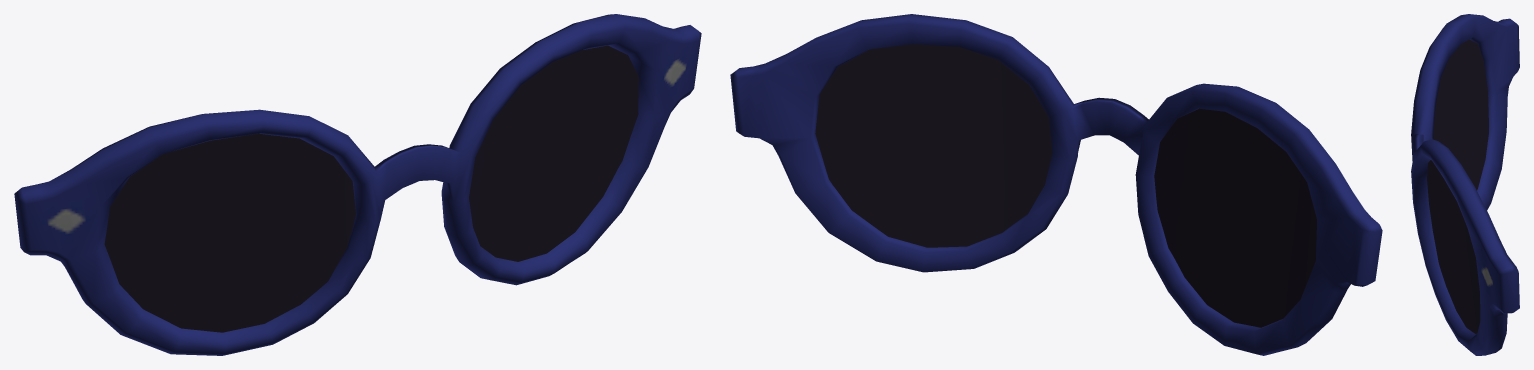
Rendered from AccessoryGlassBoston2.glb.
3 renders of one model, left to right at view 1: azimuth 30°, elevation 25°; view 2: azimuth 150°, elevation 25°; view 3: azimuth 270°, elevation 25°, orthographic. The views are drawn at different scales.
Visible parts, largest first — view 1: AccessoryAlpha__AccessoryGlassBostonBlackHigh_mAccessory; view 2: AccessoryAlpha__AccessoryGlassBostonBlackHigh_mAccessory; view 3: AccessoryAlpha__AccessoryGlassBostonBlackHigh_mAccessory.
Part boxes in pixels (x1,y1,x2,y2): AccessoryAlpha__AccessoryGlassBostonBlackHigh_mAccessory: [14, 14, 701, 355]; AccessoryAlpha__AccessoryGlassBostonBlackHigh_mAccessory: [730, 14, 1382, 355]; AccessoryAlpha__AccessoryGlassBostonBlackHigh_mAccessory: [1411, 14, 1519, 355].
Bounding box in the file's own units: 6.82 × 2.42 × 1.24.
Materials: 1 (1 with a texture image).
